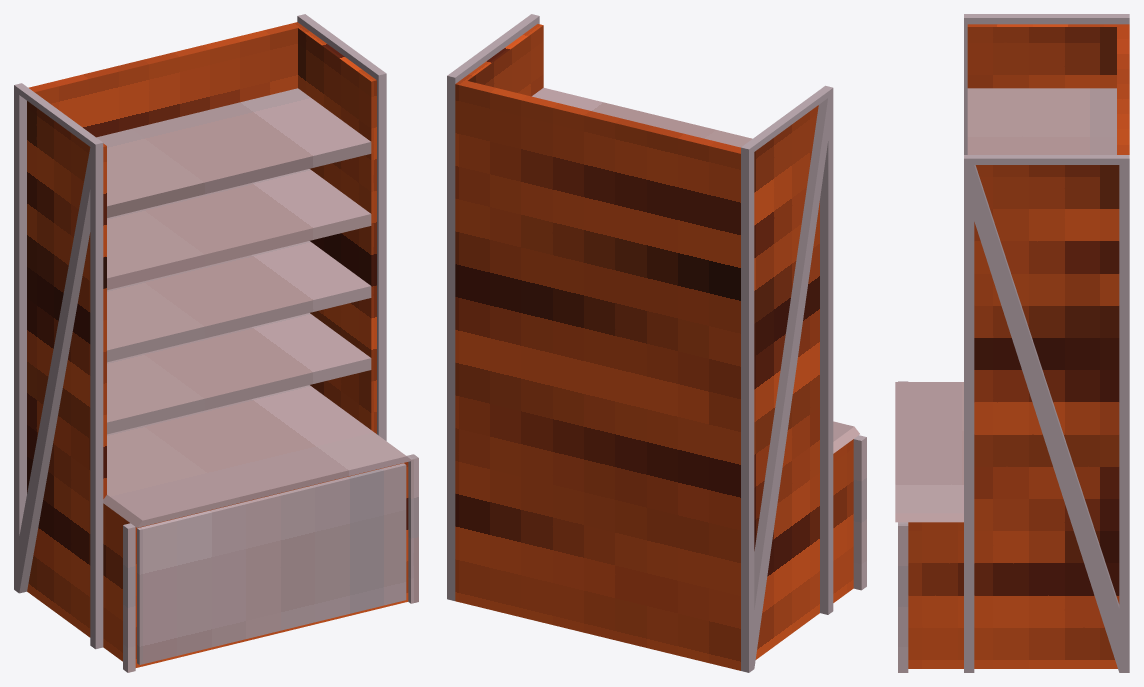
File: Cupboard.fbx
The picture shows the model from 3 angles, left to right: view 1: azimuth 30°, elevation 25°; view 2: azimuth 150°, elevation 25°; view 3: azimuth 270°, elevation 25°; orthographic projection. The views are drawn at different scales.
Parts seen in each view (by area): view 1: Cube.004; view 2: Cube.004; view 3: Cube.004.
Boxes of the visible parts, left/top/right/bottom form: Cube.004: left=14, top=14, right=418, bottom=672; Cube.004: left=447, top=14, right=866, bottom=672; Cube.004: left=895, top=14, right=1129, bottom=672.
Bounding box in the file's own units: 423 × 700 × 289.
